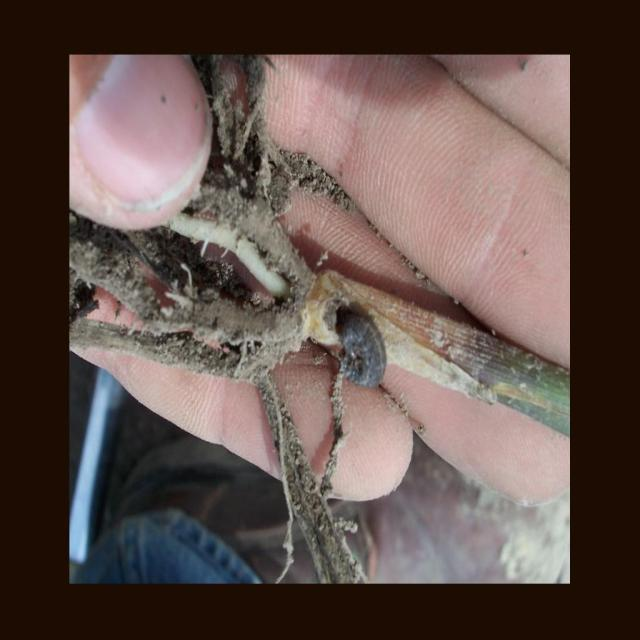black cutworm: (330, 308, 392, 391)
